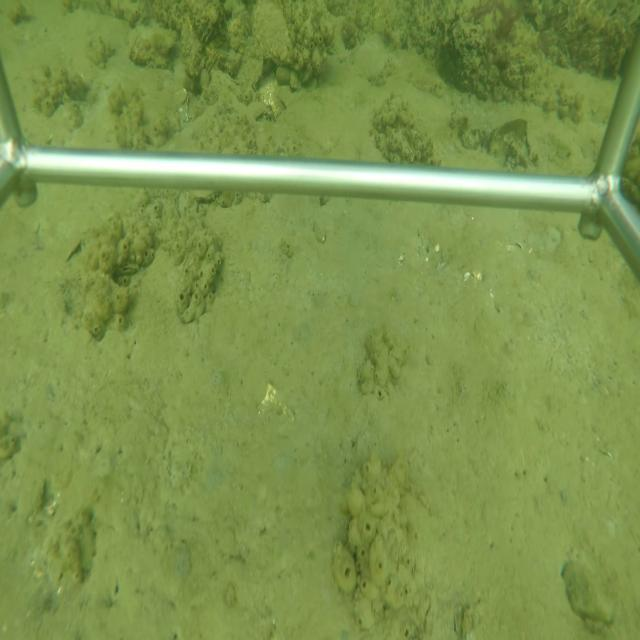Oyster-Closed: (250, 1, 296, 71)
